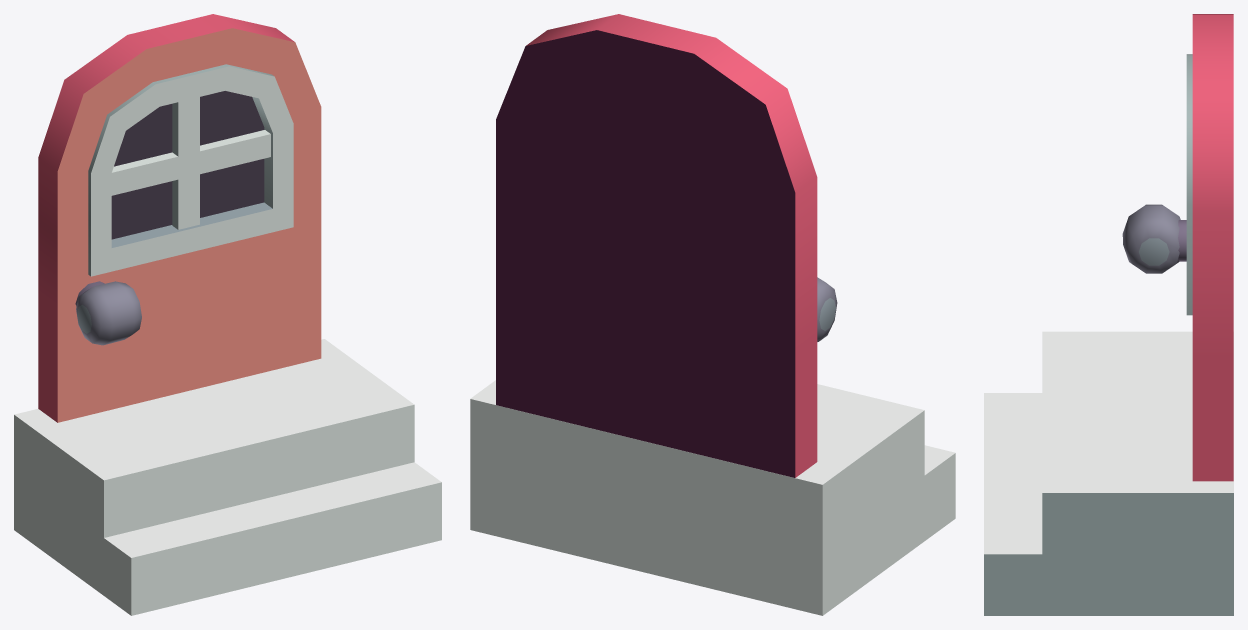
The model's file is Door01_Pink_White.glb.
3 views of the same model, side by side, from view 1: azimuth 30°, elevation 25°; view 2: azimuth 150°, elevation 25°; view 3: azimuth 270°, elevation 25° (orthographic). The views are drawn at different scales.
Parts seen in each view (by area): view 1: Door01_Pink_White; view 2: Door01_Pink_White; view 3: Door01_Pink_White.
Part boxes in pixels (<box>): Door01_Pink_White: <box>14,14,441,615</box>; Door01_Pink_White: <box>470,14,955,615</box>; Door01_Pink_White: <box>984,14,1233,615</box>.
Bounding box in the file's own units: 0.9795 × 1.41 × 0.6407.
Materials: 1 (1 with a texture image).
